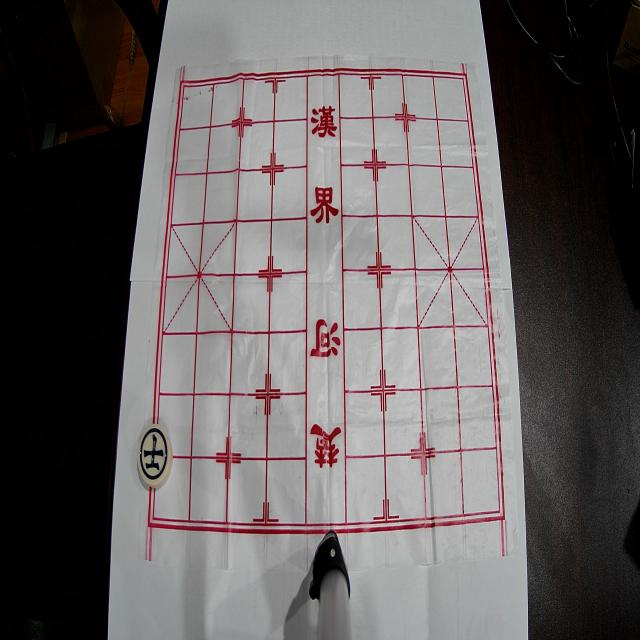black-guard: (138, 424, 172, 488)
